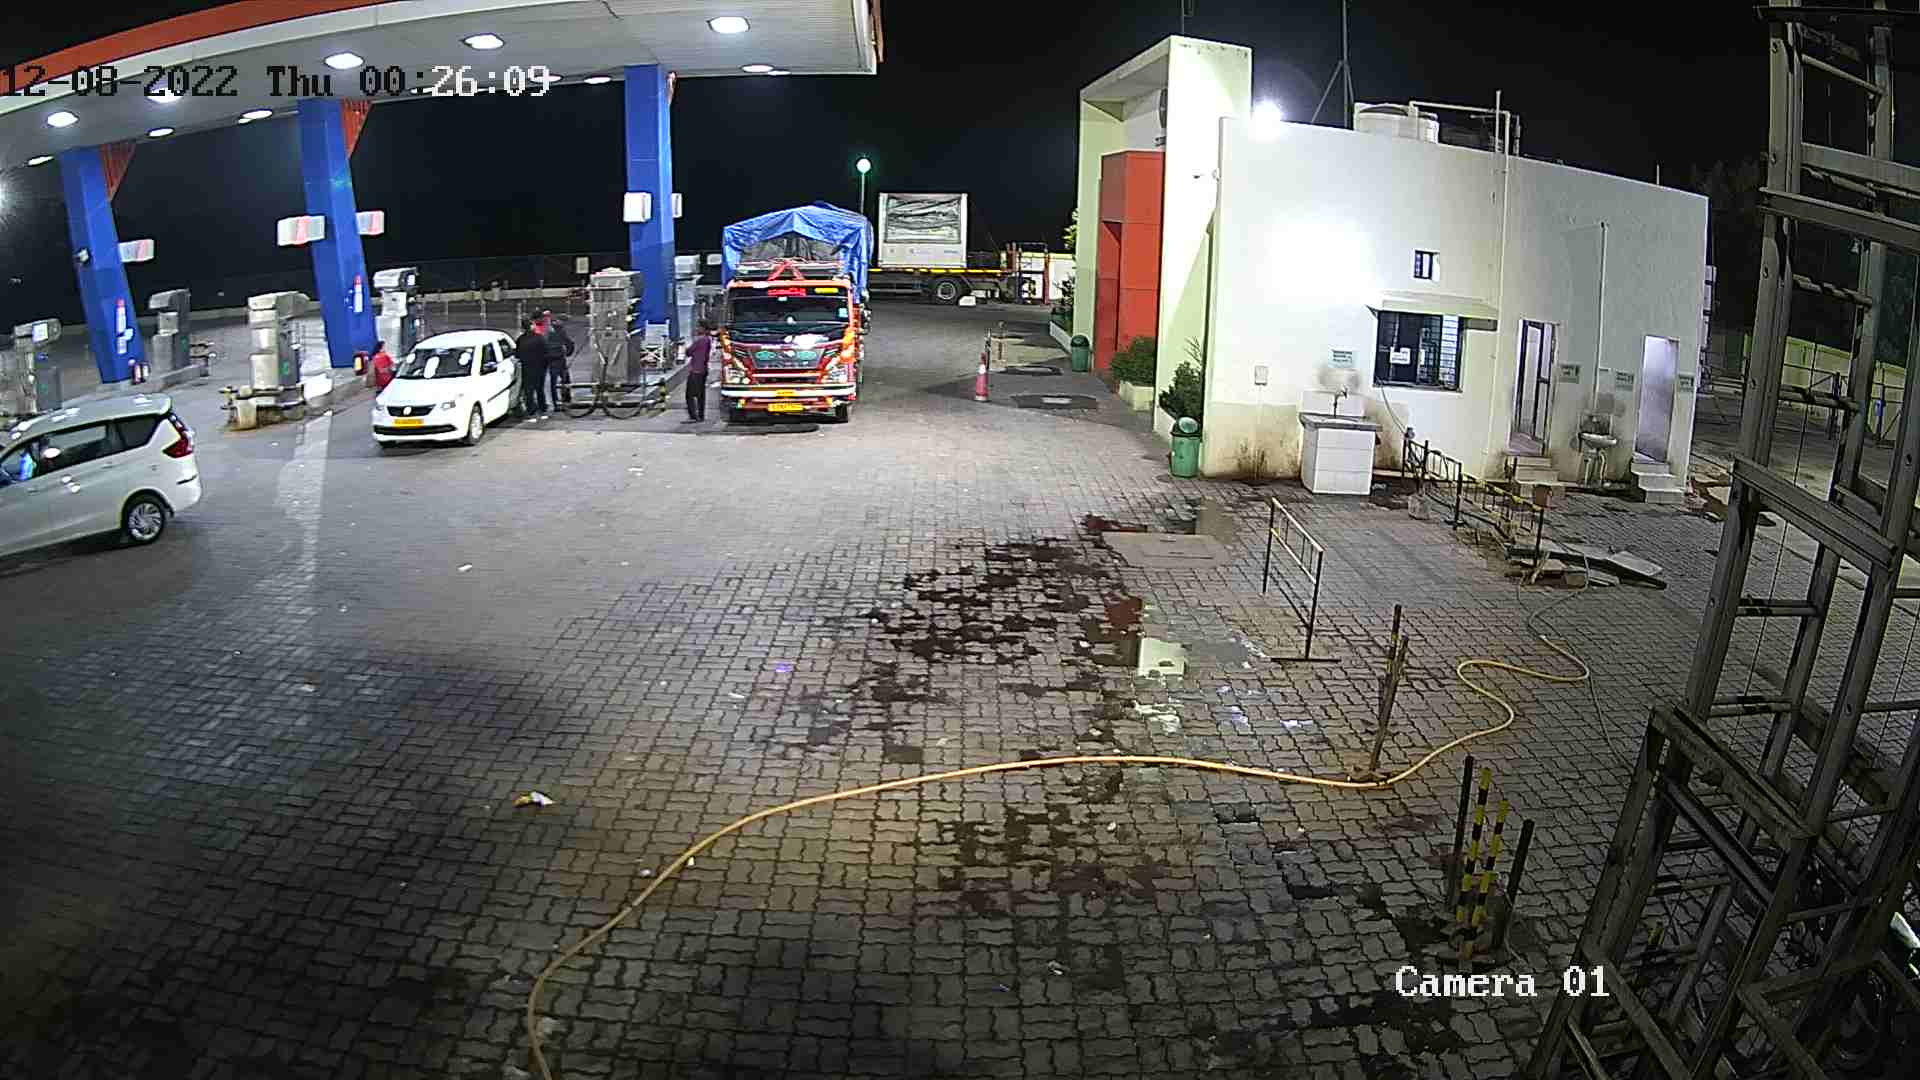Car: (0, 375, 214, 603), (367, 310, 537, 459)
HMV: (673, 187, 893, 440), (864, 177, 1050, 318)
